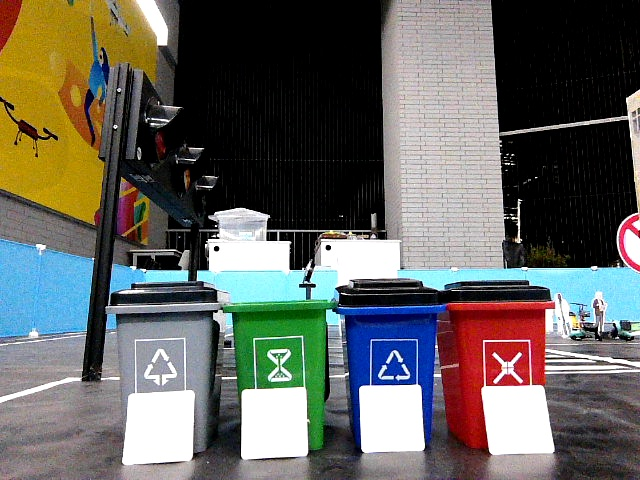blue_close: (343, 277, 432, 378)
green_open: (237, 300, 322, 386)
grey_close: (120, 282, 213, 389)
red_close: (450, 282, 542, 380)
